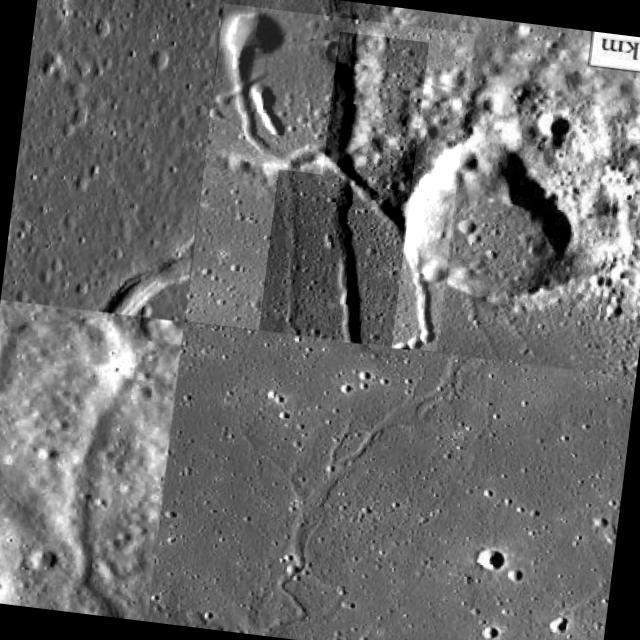rille: (185, 3, 475, 351), (252, 335, 494, 640), (0, 299, 181, 619), (302, 31, 428, 346), (258, 169, 399, 344), (29, 199, 194, 320)
